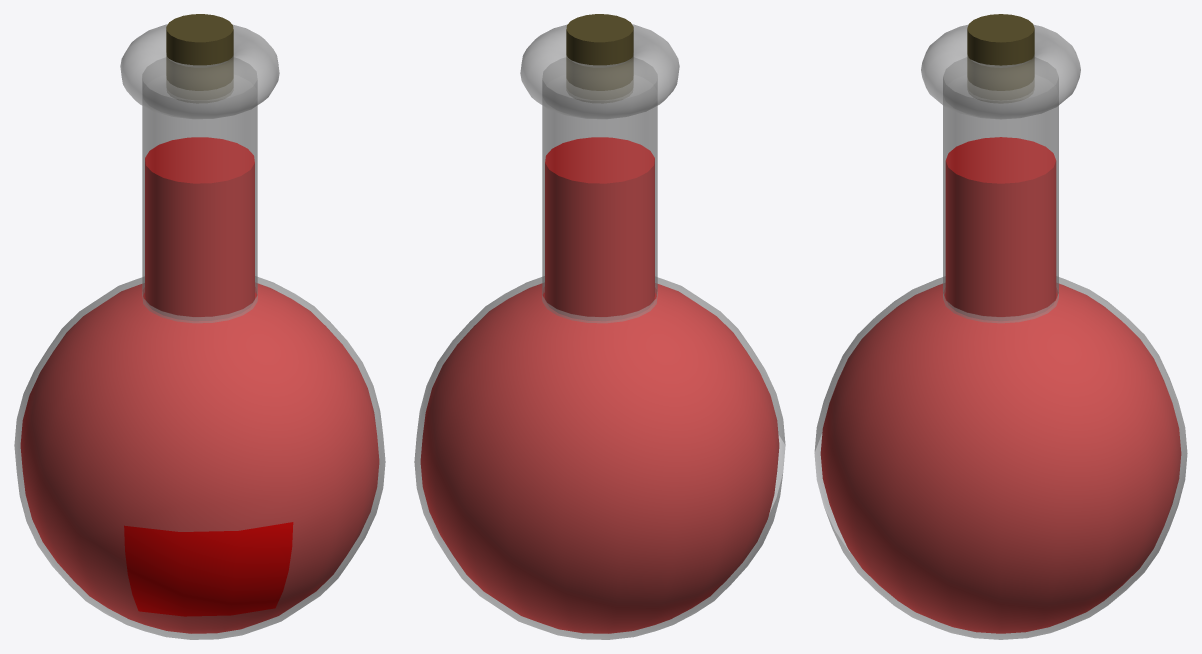
File: HealthPotionPickup.fbx
3 renders of one model, left to right at view 1: azimuth 30°, elevation 25°; view 2: azimuth 150°, elevation 25°; view 3: azimuth 270°, elevation 25°, orthographic.
Parts seen in each view (by area): view 1: potionLiquidBody, PotionBottleBody, potionBottleNeck, potionLiquidNeck, PotionBottleLip, Cork; view 2: PotionBottleBody, potionLiquidBody, potionBottleNeck, potionLiquidNeck, PotionBottleLip, Cork; view 3: PotionBottleBody, potionLiquidBody, potionBottleNeck, potionLiquidNeck, PotionBottleLip, Cork.
Part boxes in pixels (x1,y1,x2,y2): potionLiquidBody: (20,283,379,633); PotionBottleBody: (14,276,385,639); potionBottleNeck: (142,57,257,322); potionLiquidNeck: (145,137,254,320); PotionBottleLip: (120,24,279,119); Cork: (166,14,233,102); PotionBottleBody: (414,276,785,639); potionLiquidBody: (420,283,779,633); potionBottleNeck: (542,57,657,322); potionLiquidNeck: (545,137,654,320); PotionBottleLip: (520,24,679,119); Cork: (566,14,633,102); PotionBottleBody: (814,277,1187,639); potionLiquidBody: (820,283,1181,633); potionBottleNeck: (943,57,1058,322); potionLiquidNeck: (945,137,1056,320); PotionBottleLip: (921,24,1080,119); Cork: (967,14,1034,102).
Size of the model in its own units: 2 by 3.52 by 2.
